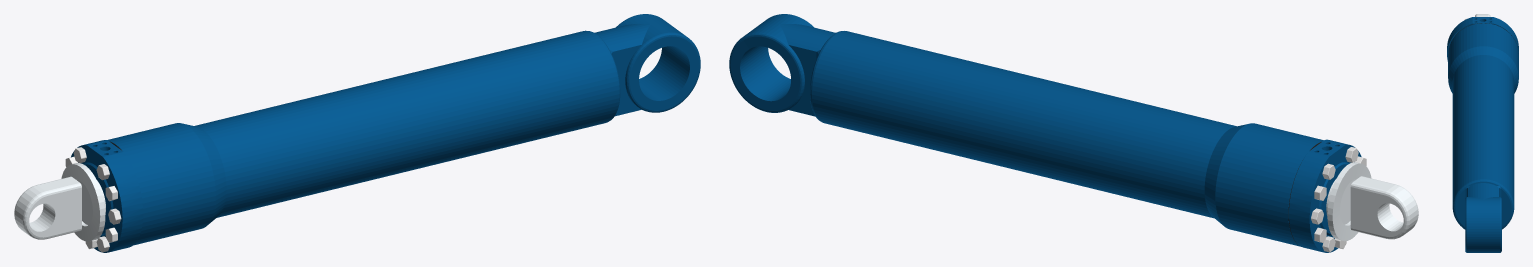
File: J16液压杆爆炸图.glb
3 renders of one model, left to right at view 1: azimuth 30°, elevation 25°; view 2: azimuth 150°, elevation 25°; view 3: azimuth 270°, elevation 25°, orthographic. The views are drawn at different scales.
Parts seen in each view (by area): view 1: 管子, 底部, obj1.002, obj1.009, 螺丝; view 2: 管子, 底部, obj1.002, obj1.009, 螺丝; view 3: 管子, 底部.
Boxes of the visible parts, x1,y1,x2,y2 form: 管子: (107, 14, 700, 245); 底部: (71, 140, 143, 252); obj1.002: (14, 176, 81, 239); obj1.009: (61, 163, 105, 241); 螺丝: (65, 147, 121, 252); 管子: (729, 14, 1323, 246); 底部: (1289, 139, 1361, 252); obj1.002: (1350, 176, 1418, 239); obj1.009: (1326, 162, 1371, 241); 螺丝: (1311, 147, 1366, 252); 管子: (1448, 23, 1518, 252); 底部: (1447, 17, 1518, 61).
Bounding box in the file's own units: 15.01 × 2.12 × 2.15.
